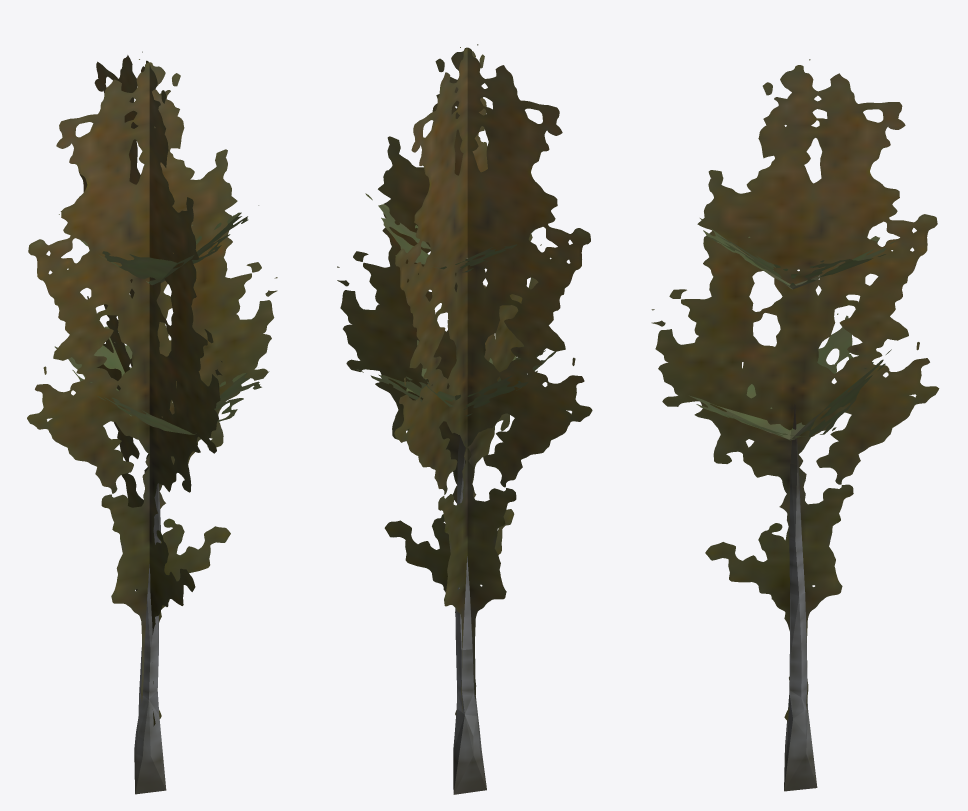
File: forest_pine001.glb
3 renders of one model, left to right at view 1: azimuth 30°, elevation 25°; view 2: azimuth 150°, elevation 25°; view 3: azimuth 270°, elevation 25°, orthographic. The views are drawn at different scales.
Bounding box in the file's own units: 3.34 × 8.56 × 3.34.
Materials: 1 (1 with a texture image).
